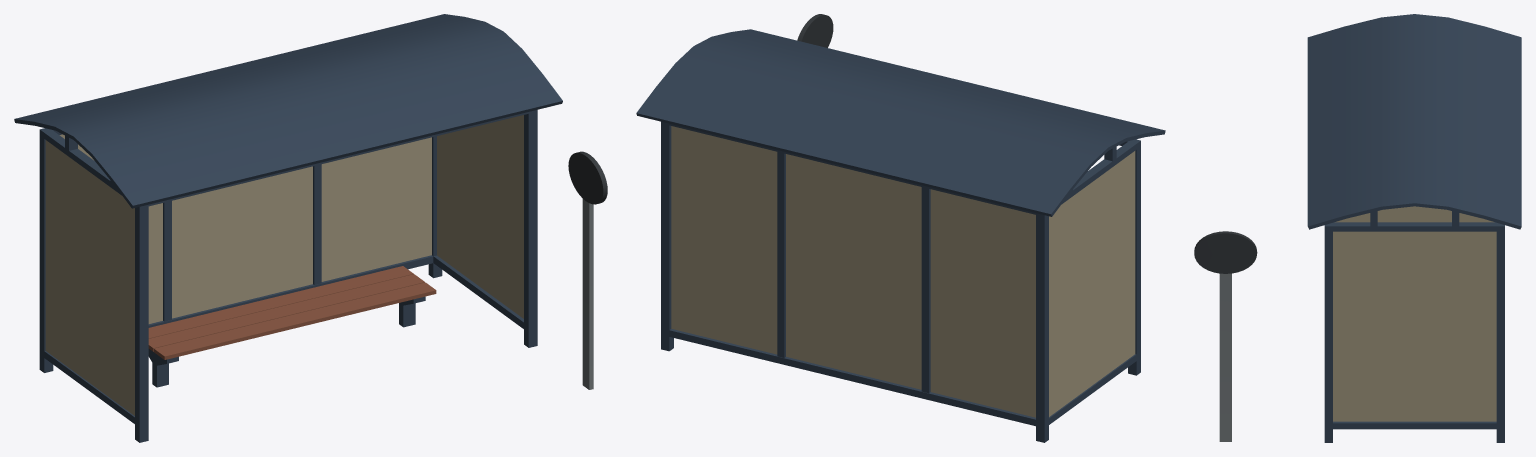
Rendered from bus-stop.fbx.
3 renders of one model, left to right at view 1: azimuth 30°, elevation 25°; view 2: azimuth 150°, elevation 25°; view 3: azimuth 270°, elevation 25°, orthographic. The views are drawn at different scales.
Visible parts, largest first — view 1: 5. bus-stop, bus-stop-sign; view 2: 5. bus-stop, bus-stop-sign; view 3: 5. bus-stop, bus-stop-sign.
Boxes of the visible parts, box(x1,y1,x2,y2) form: 5. bus-stop: box(14, 14, 562, 442); bus-stop-sign: box(568, 151, 607, 389); 5. bus-stop: box(636, 29, 1165, 442); bus-stop-sign: box(797, 14, 833, 47); 5. bus-stop: box(1307, 14, 1521, 442); bus-stop-sign: box(1194, 231, 1257, 441).
Bounding box in the file's own units: 575 × 350 × 421.
Materials: 1 (1 with a texture image).
